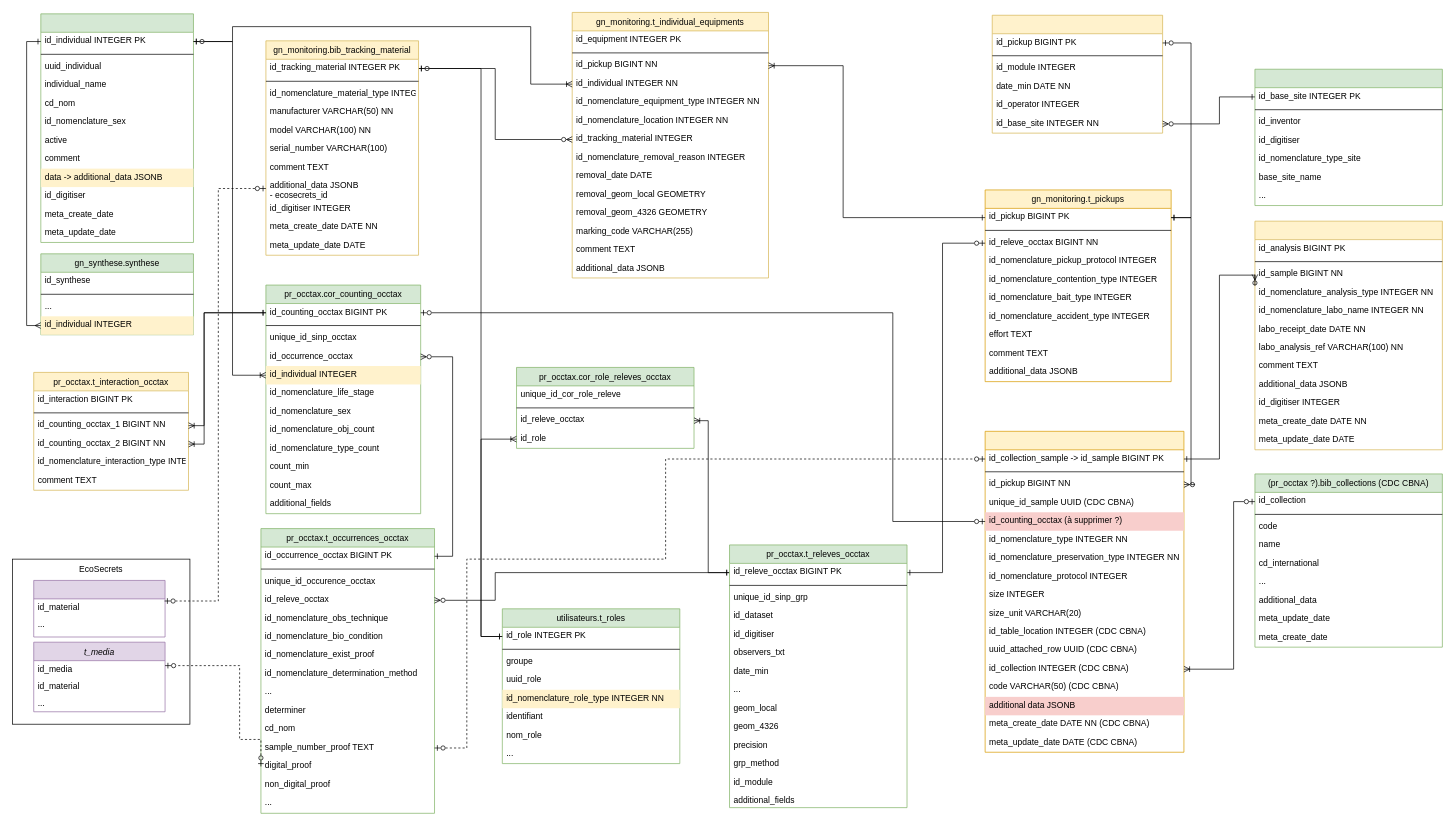
Image size: 1455x827. Some labels were removed from this diagram. The shapes that lost their labels are listed below. From the top down, each one's box as (x1, y1, x2, y2) in pixels, then its label:
(992, 15, 1163, 133): gn_monitoring.t_pickup_events
(40, 13, 193, 242): gn_monitoring.t_individuals
(1254, 69, 1442, 206): gn_monitoring.t_base_sites
(1254, 220, 1442, 450): (quel schéma ?).t_sample_analysis
(33, 580, 165, 637): t_material
(984, 431, 1184, 752): pr_occtax.t_samples (t_sample_collection CDC CBNA)
